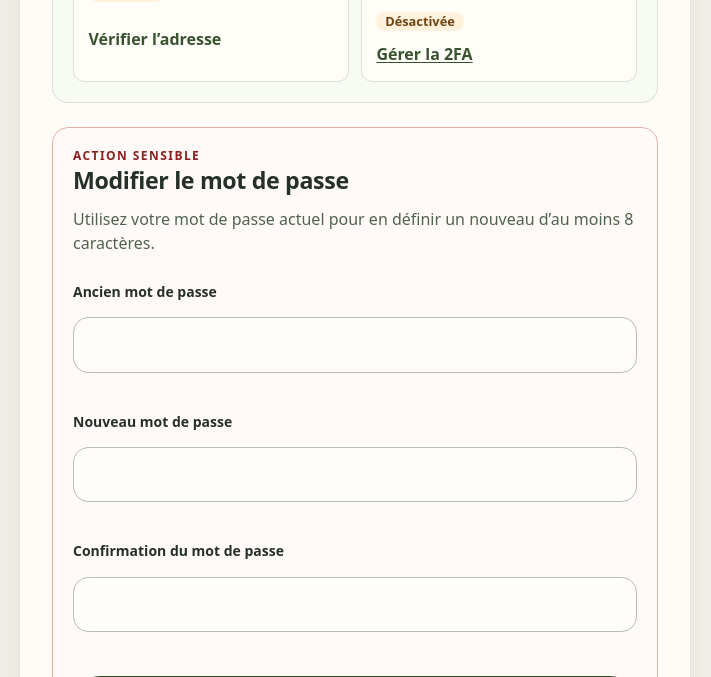
ChangePasswordView › renders API errors on the relevant field
(page scrolled)
Step 1. Type "wrong-password" into the password field with id "currentPassword-input" → (355, 345), box [73,317,637,373]
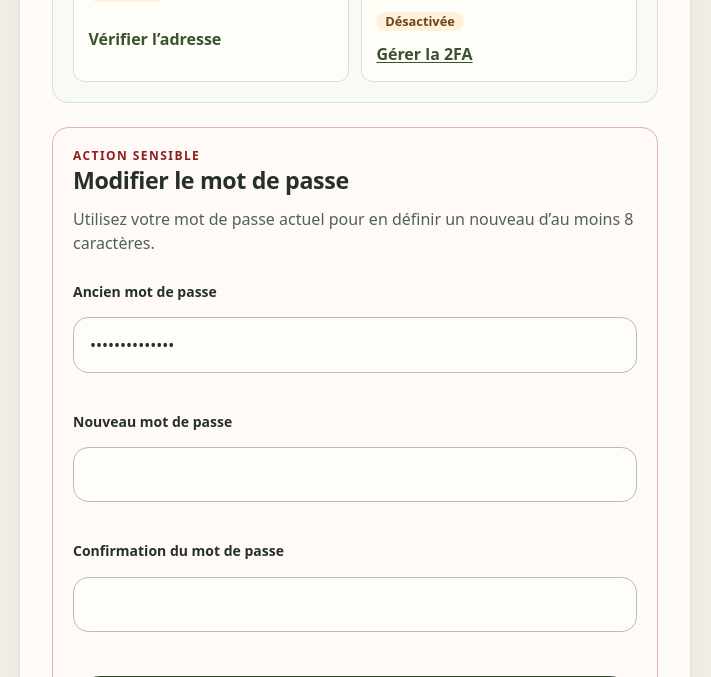
Step 2. Type "new-password123" into the password field labelled "Nouveau mot de passe" → (355, 475), box [73,447,637,502]
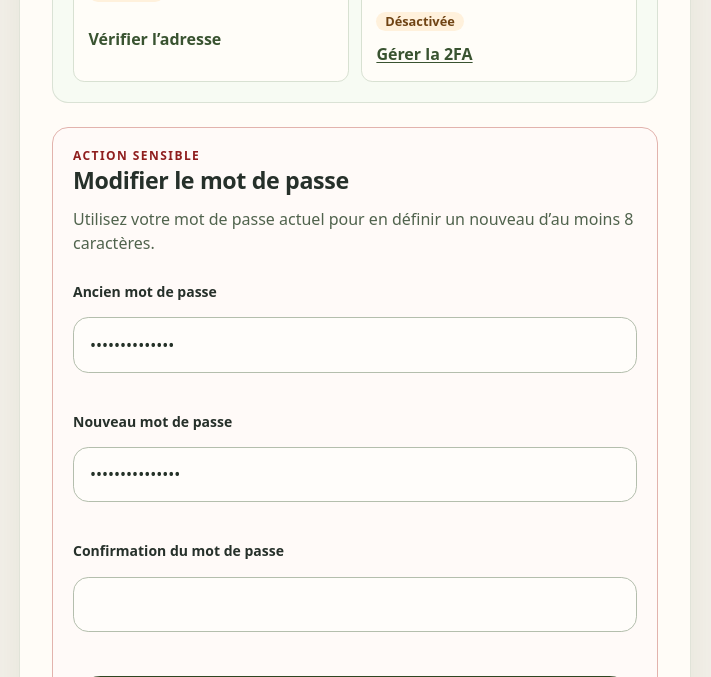
Step 3. Type "new-password123" into the password field labelled "Confirmation du mot de passe" → (355, 604), box [73,576,637,632]
(page scrolled)
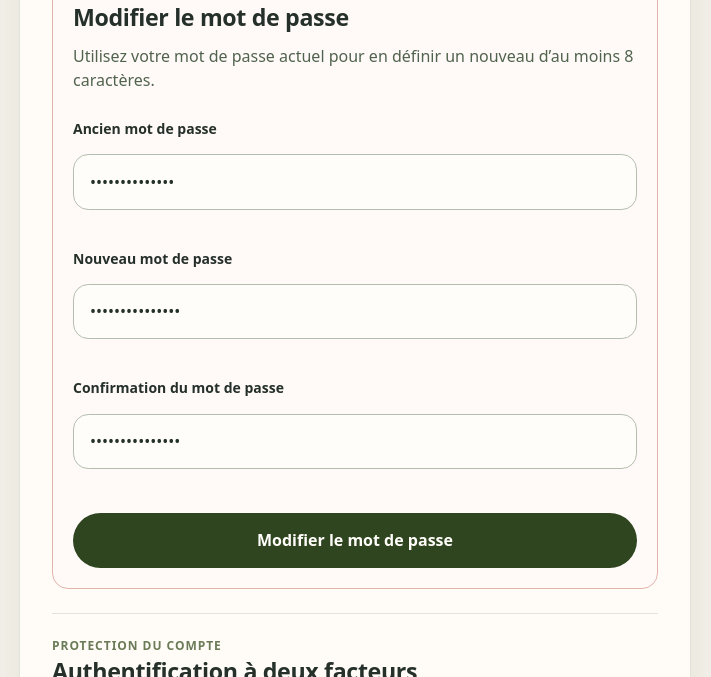
Step 4. Submit the form, box [73,120,637,568]
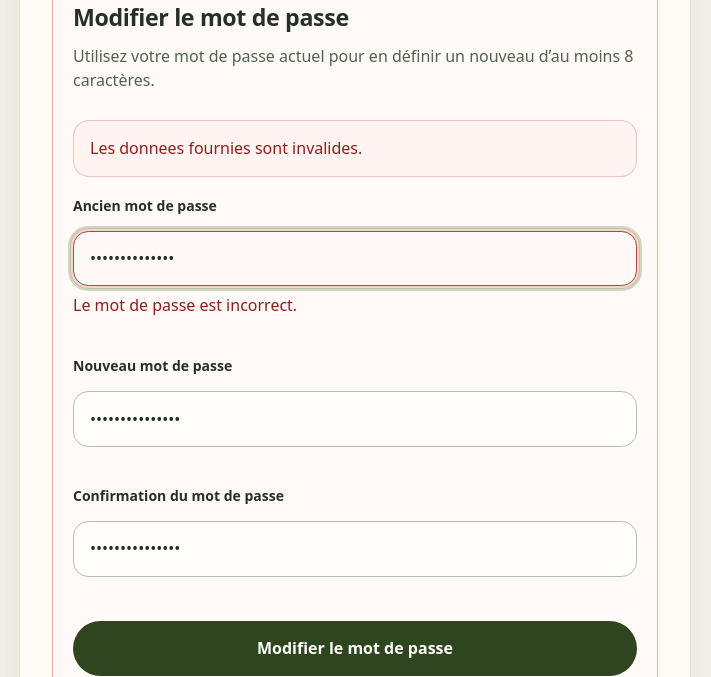
Now the message with id "currentPassword-error" shows "incorrect", box [73,294,297,316]
Now the message "Les donnees fournies sont invalides." is shown, box [73,120,637,176]
